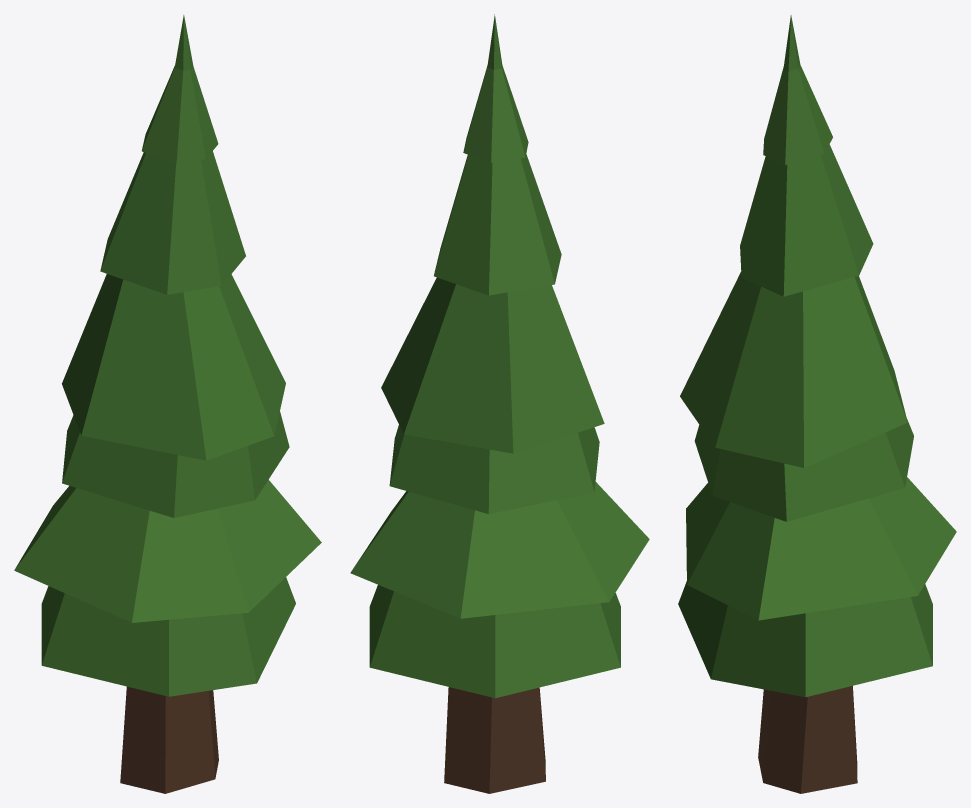
The model's file is tree.fbx.
The picture shows the model from 3 angles, left to right: view 1: azimuth 30°, elevation 25°; view 2: azimuth 150°, elevation 25°; view 3: azimuth 270°, elevation 25°; orthographic projection.
Parts seen in each view (by area): view 1: Cylinder_1, Cylinder; view 2: Cylinder_1, Cylinder; view 3: Cylinder_1, Cylinder.
Part boxes in pixels (x1,y1,x2,y2): Cylinder_1: [14, 15, 321, 696]; Cylinder: [120, 686, 218, 793]; Cylinder_1: [350, 14, 649, 698]; Cylinder: [444, 687, 545, 793]; Cylinder_1: [678, 15, 956, 697]; Cylinder: [758, 686, 857, 793].
Size of the model in its own units: 362 by 992 by 330.
